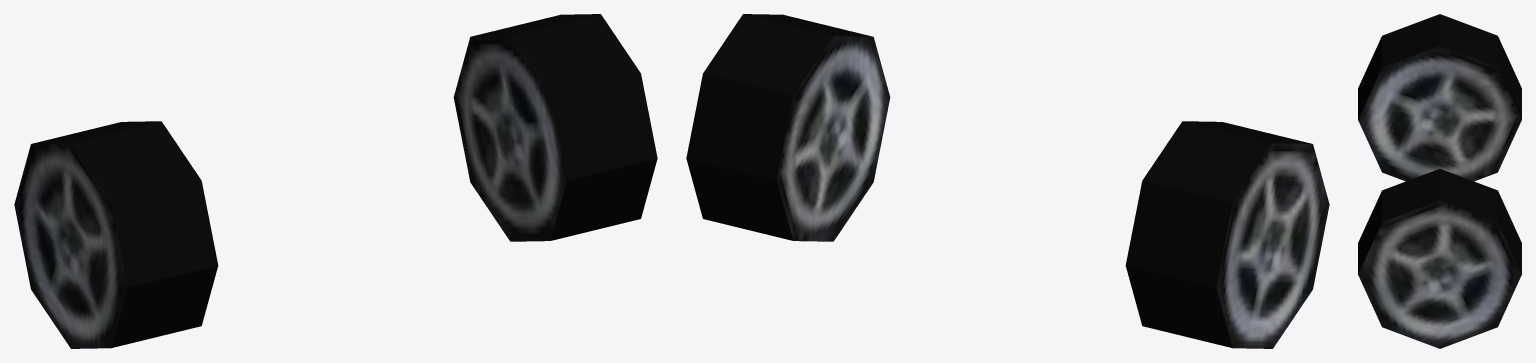
File: skyline_r32_wheels_f.obj
3 renders of one model, left to right at view 1: azimuth 30°, elevation 25°; view 2: azimuth 150°, elevation 25°; view 3: azimuth 270°, elevation 25°, orthographic. The views are drawn at different scales.
Visible parts, largest first — view 1: skyline_r32_wheels_f; view 2: skyline_r32_wheels_f; view 3: skyline_r32_wheels_f.
Boxes of the visible parts, bbox=[...] form: skyline_r32_wheels_f: bbox=[14, 14, 657, 348]; skyline_r32_wheels_f: bbox=[686, 14, 1329, 348]; skyline_r32_wheels_f: bbox=[1358, 14, 1521, 348].
Bounding box in the file's own units: 1.83 × 0.6778 × 0.6778.
1 material, 1 textured.
